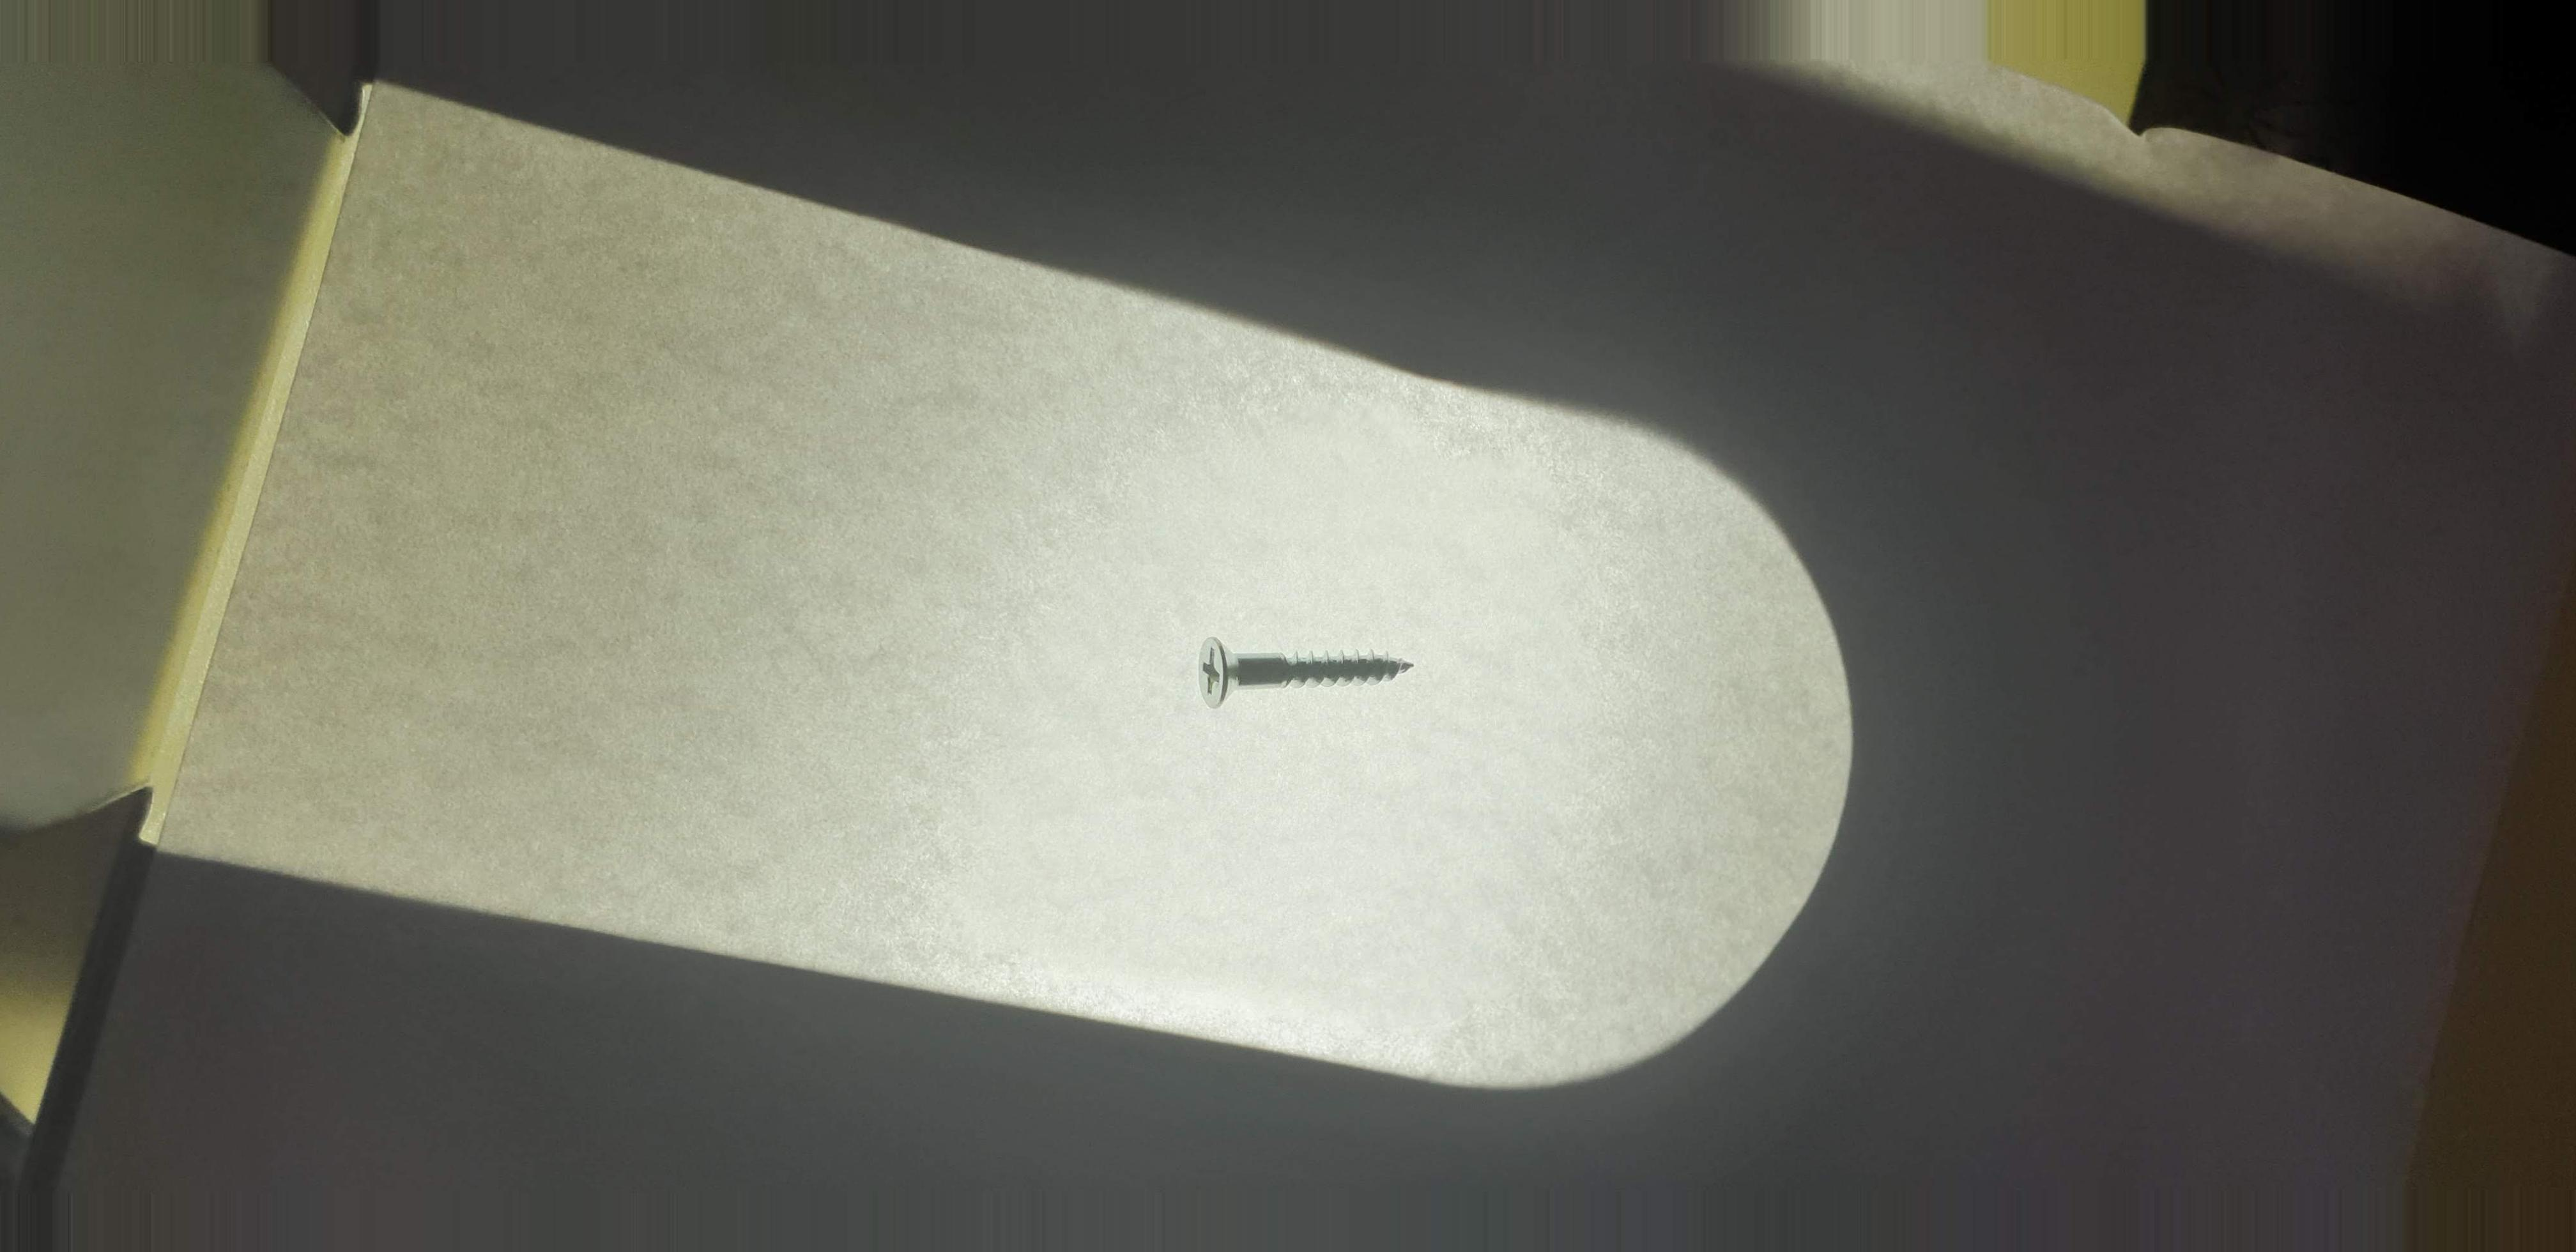S005: (1184, 601, 1441, 726)
